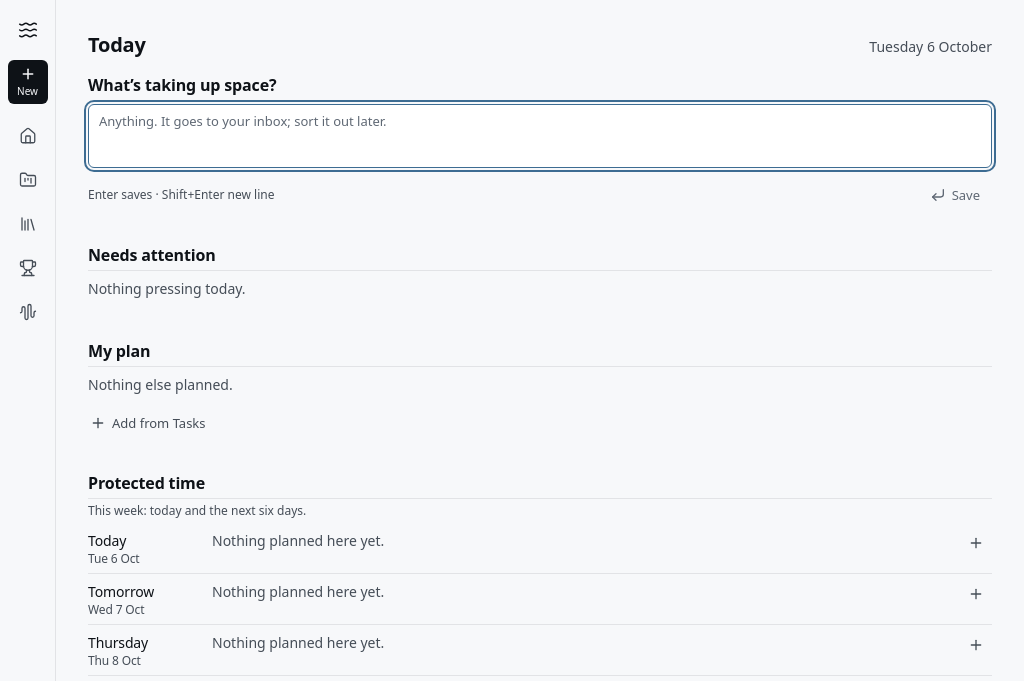
Test: Today page › still captures thoughts from Today
Expected: the heading "Today" is shown, [88, 32, 146, 58]
Expected: the heading "Needs attention" is shown, [88, 244, 216, 266]
In the text box labelled "What’s taking up space?": [540, 136] box [88, 104, 992, 168], type "call Priya"
Then press Enter
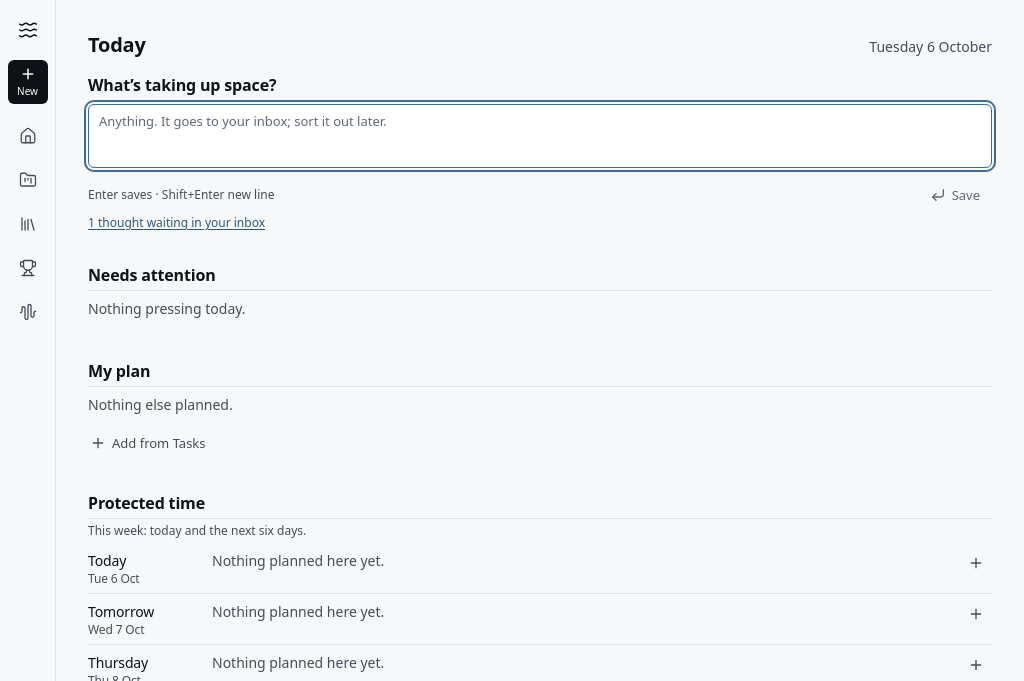
Now the link "1 thought waiting in your inbox" is shown, box [88, 214, 265, 231]
